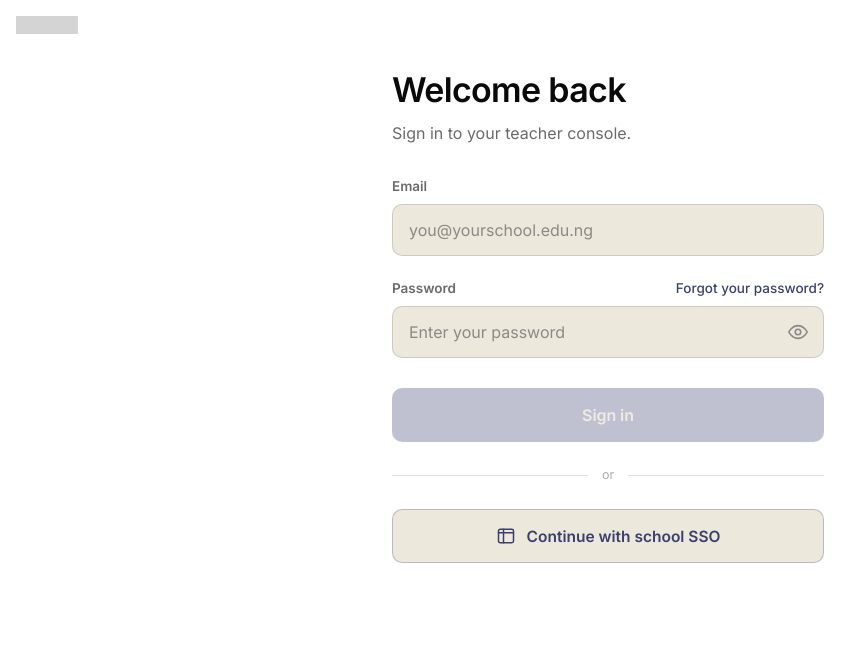
Test: which field is at fault (T207) › does not mark it when the account is paused, which is no typo
Type "ada@school.ng" into the field labelled "Email" at (608, 230), box [392,204,824,256]
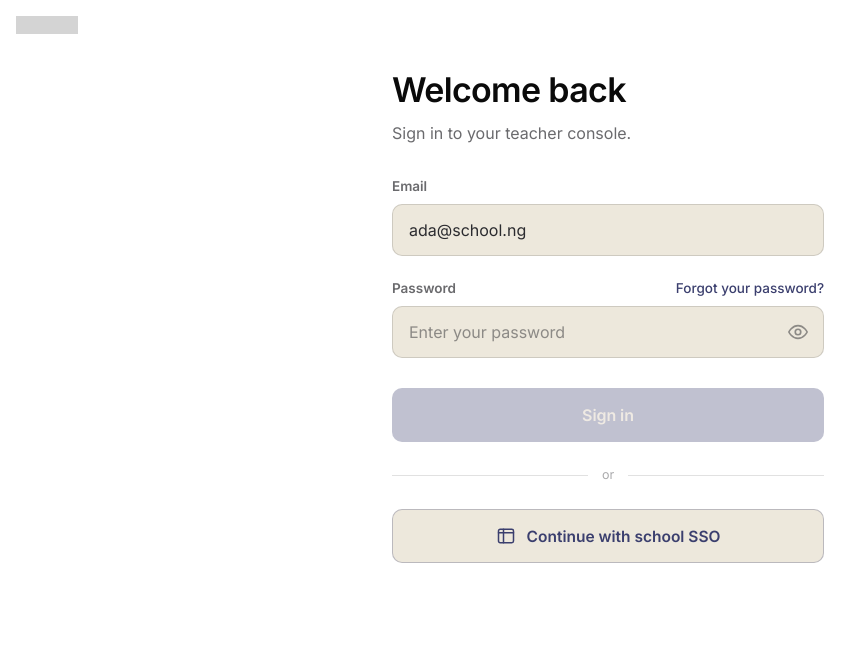
Type "lessons42" into the password field labelled "Password" at (594, 332), box [409,307,779,357]
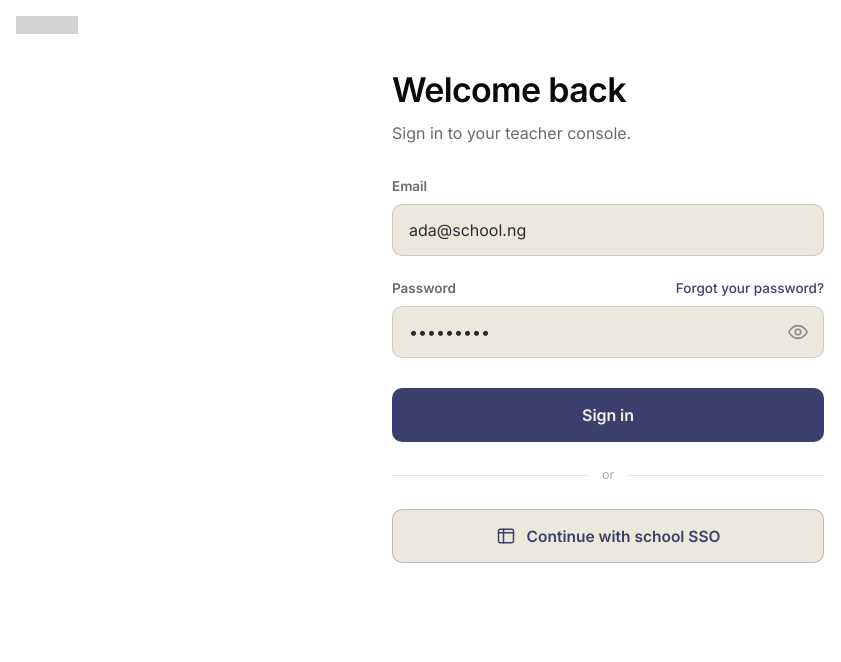
Click the button "Sign in" at (608, 415), box [392,388,824,442]
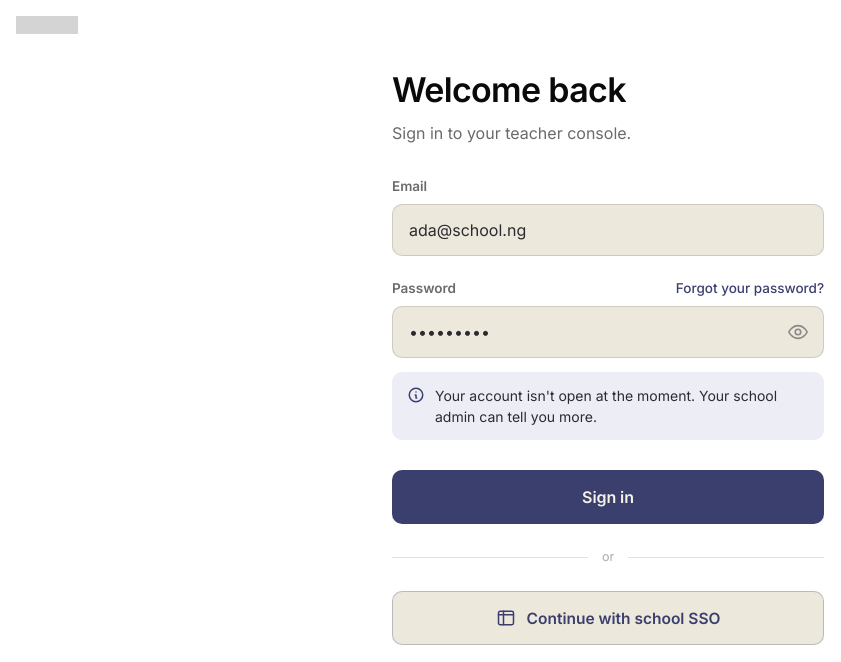
Check: the text "isn.t open at the moment" is shown, box [435,387,777,425]
